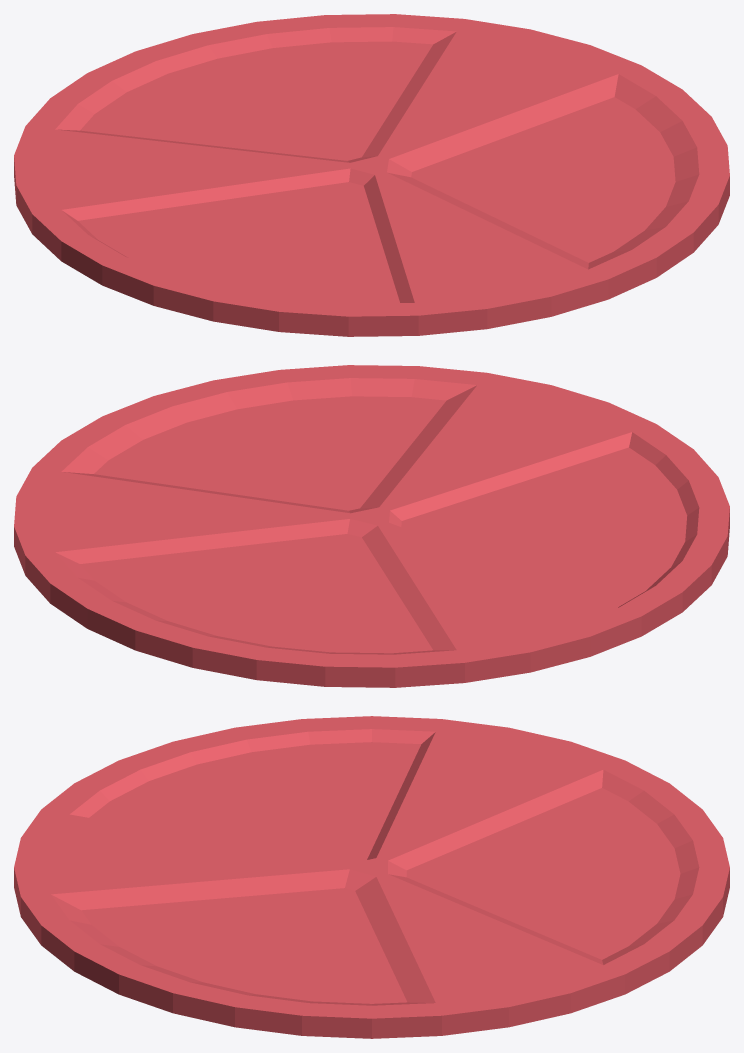
The model's file is Hamburger-Tomato.fbx.
3 views of the same model, one above another, from view 1: azimuth 30°, elevation 25°; view 2: azimuth 150°, elevation 25°; view 3: azimuth 270°, elevation 25° (orthographic).
Parts seen in each view (by area): view 1: Tomato; view 2: Tomato; view 3: Tomato.
Boxes of the visible parts, box(x1,y1,x2,y2) form: Tomato: box(14, 14, 729, 336); Tomato: box(14, 365, 729, 687); Tomato: box(14, 716, 729, 1038).
Bounding box in the file's own units: 181 × 5.63 × 181.
